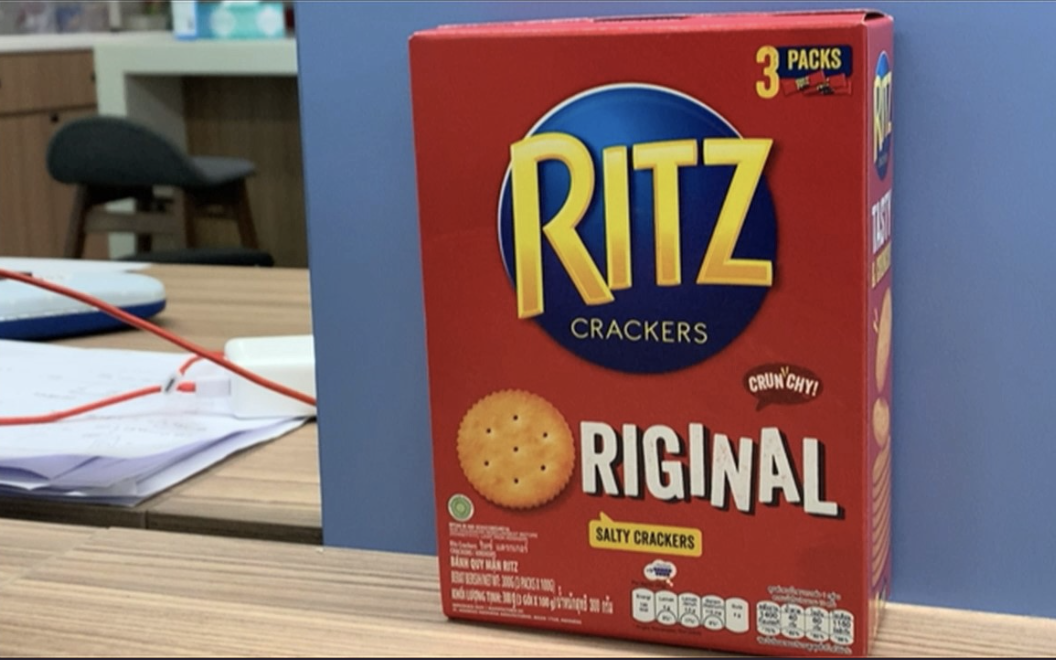crackers_300g-399g: (440, 40, 857, 643)
